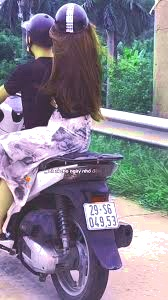Bien-so: (93, 205, 132, 234)
